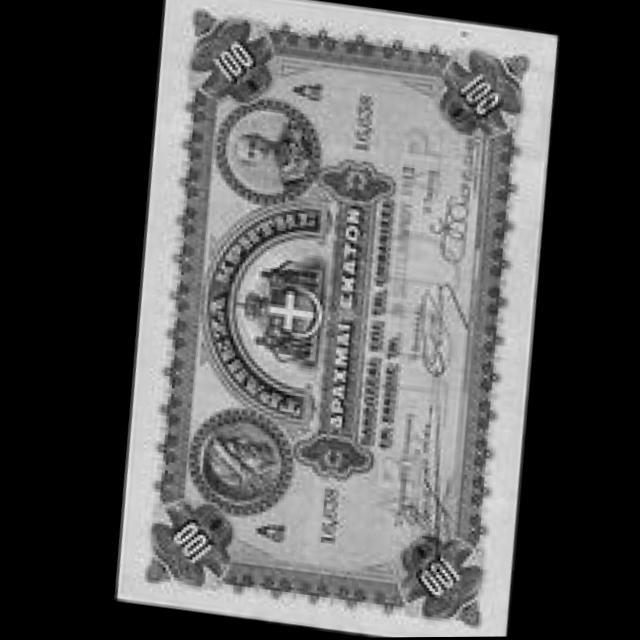banknote: (78, 0, 585, 640), (186, 22, 272, 102), (395, 545, 466, 616), (444, 62, 516, 128), (156, 516, 220, 579)
